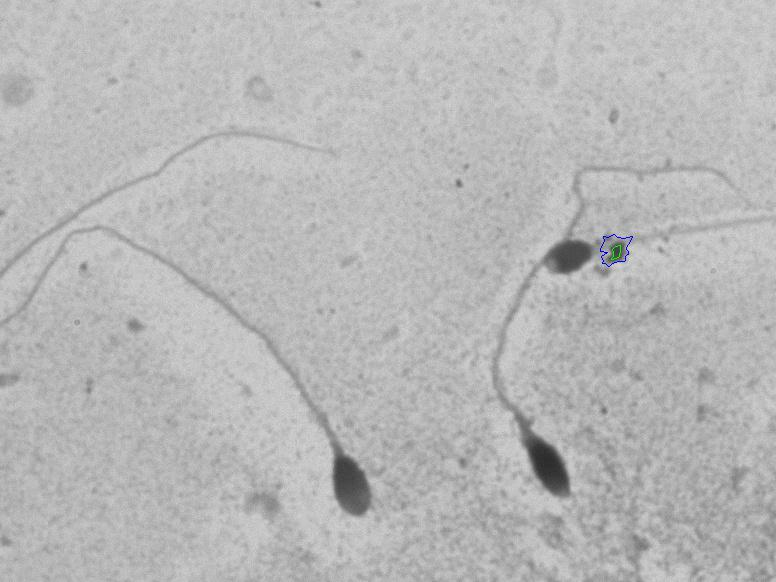Abnormal: (455, 286, 629, 524), (513, 166, 766, 297)
Normal: (30, 221, 419, 529)
